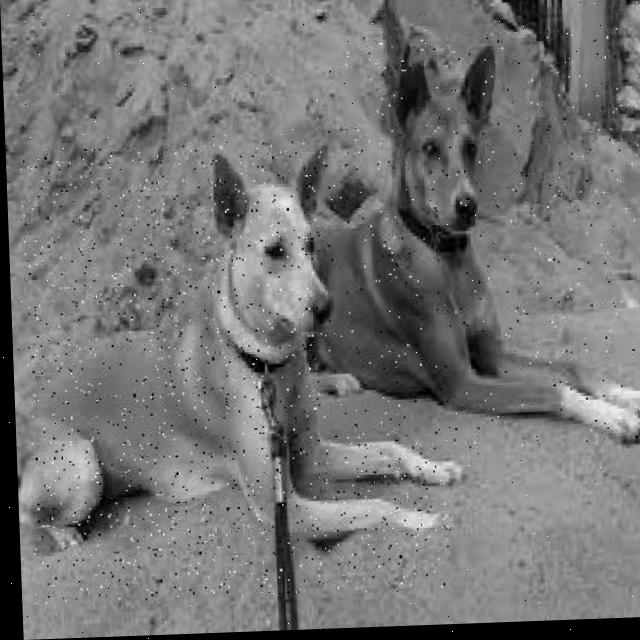Dog: (20, 136, 453, 605), (313, 28, 640, 455)
